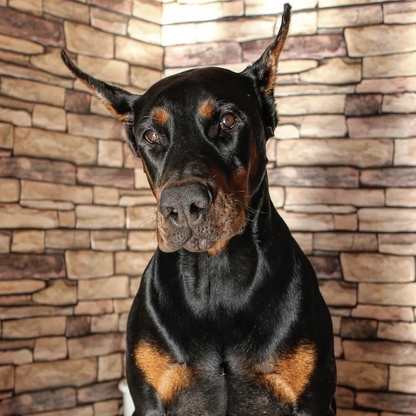doberman: (59, 23, 352, 416)
